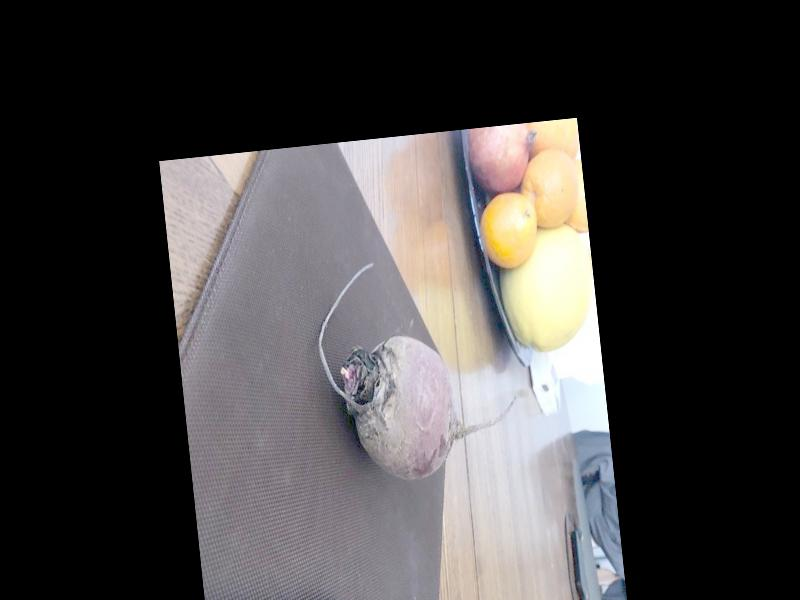Beet: (310, 249, 524, 488)
